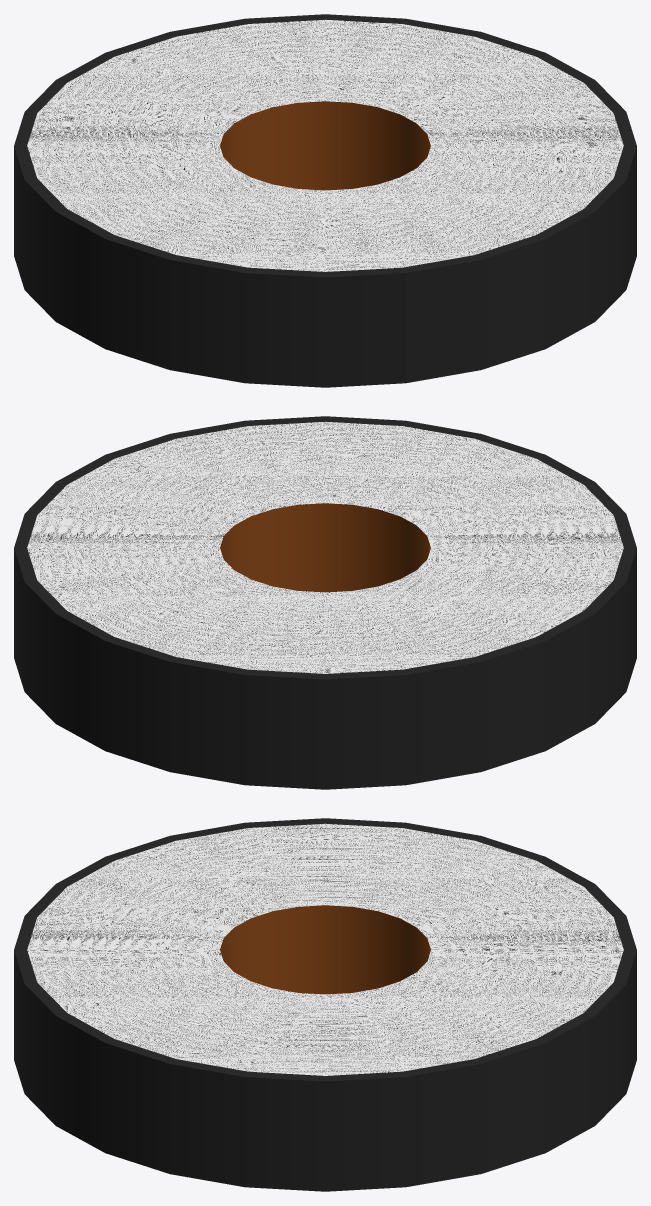
File: tape1.dae
3 renders of one model, top to bottom at view 1: azimuth 30°, elevation 25°; view 2: azimuth 150°, elevation 25°; view 3: azimuth 270°, elevation 25°, orthographic.
Parts seen in each view (by area): view 1: SketchUp (×17); view 2: SketchUp (×17); view 3: SketchUp (×17).
Boxes of the visible parts, box(x1,y1,x2,y2) form: SketchUp (×17): box(14, 14, 636, 387); SketchUp (×17): box(14, 416, 636, 789); SketchUp (×17): box(14, 818, 636, 1191).
Size of the model in its own units: 38.11 by 38.11 by 7.44.
